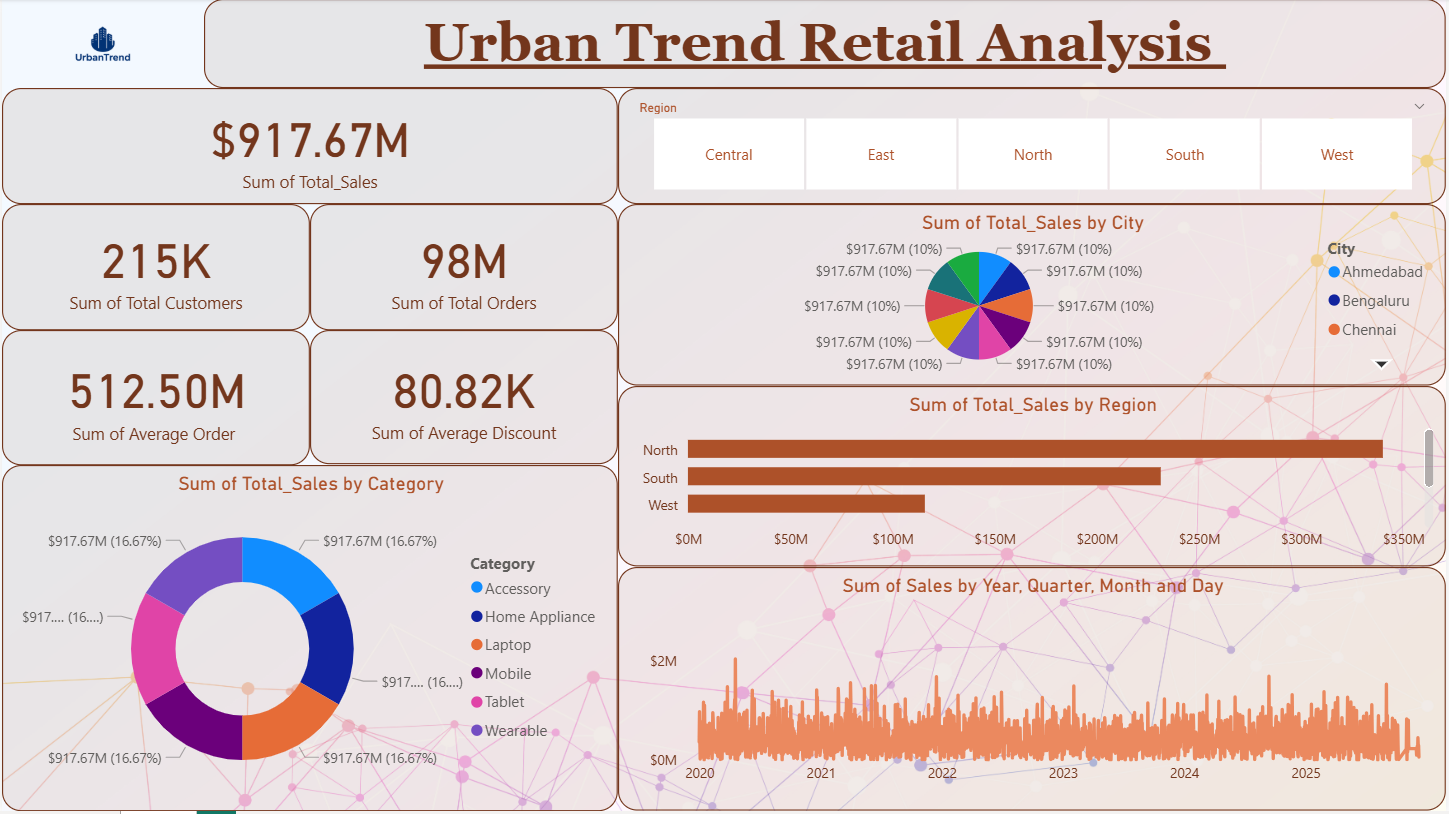

The page's visual inventory and layout, read from the dashboard file:
{"tool":"powerbi","page":{"name":"Page 1","canvas":[1280,720],"ordinal":0},"visuals":[{"type":"textbox","box":[179.1,0,1101.3,78.9],"z":0},{"type":"image","box":[0,0,179.1,78.9],"z":1000},{"type":"lineChart","title":"Sum of Sales by Year, Quarter, Month and Day","fields":{"Y":["Sum(Sales.Total_Sales)"],"Category":["Sales.Order_Date.Variation.Date Hierarchy.Year","Sales.Order_Date.Variation.Date Hierarchy.Quarter","Sales.Order_Date.Variation.Date Hierarchy.Month","Sales.Order_Date.Variation.Date Hierarchy.Day"]},"box":[546.2,503.6,734.2,216.4],"z":2000},{"type":"clusteredBarChart","fields":{"Y":["Sum(Sales.Total_Sales)"],"Category":["Sales.Region"]},"box":[546.2,343.2,734.2,160.5],"z":3000},{"type":"card","fields":{"Values":["Sum(Sales.Total_Sales)"]},"box":[0,78.9,546.2,102.9],"z":4000},{"type":"card","fields":{"Values":["Sum(Sales.Average Order Value)"]},"box":[0,293.5,273.1,119.7],"z":5000},{"type":"card","fields":{"Values":["Sum(Sales.Total Orders)"]},"box":[273.1,181.8,273.1,111.7],"z":6000},{"type":"card","fields":{"Values":["Sum(Customers.Total Customers)"]},"box":[0,181.8,273.1,111.7],"z":7000},{"type":"card","fields":{"Values":["Sum(Sales.Average Discount)"]},"box":[273.1,293.5,273.1,118.8],"z":8000},{"type":"slicer","fields":{"Values":["Sales.Region"]},"box":[546.2,78.9,734.2,102.9],"z":9000},{"type":"donutChart","fields":{"Y":["Sum(Sales.Total_Sales)"],"Category":["Products.Category"]},"box":[0,413.2,546.2,306.8],"z":10000},{"type":"pieChart","fields":{"Category":["Customers.City"],"Y":["Sum(Sales.Total_Sales)"]},"box":[546.2,181.8,734.2,161.4],"z":11000}]}

Visuals, with their boxes in screenshot pixels (x1, y1, x2, y2), scaled from the page's 1280x720 canvas onto the 1449x814 screenshot:
textbox: l=203, t=0, r=1448, b=89
image: l=0, t=0, r=203, b=89
"Sum of Sales by Year, Quarter, Month and Day" lineChart: l=618, t=569, r=1448, b=813
clusteredBarChart - Sum(Sales.Total_Sales) x Sales.Region: l=618, t=388, r=1448, b=569
card - Sum(Sales.Total_Sales): l=0, t=89, r=618, b=206
card - Sum(Sales.Average Order Value): l=0, t=332, r=309, b=467
card - Sum(Sales.Total Orders): l=309, t=206, r=618, b=332
card - Sum(Customers.Total Customers): l=0, t=206, r=309, b=332
card - Sum(Sales.Average Discount): l=309, t=332, r=618, b=466
slicer - Sales.Region: l=618, t=89, r=1448, b=206
donutChart - Sum(Sales.Total_Sales) x Products.Category: l=0, t=467, r=618, b=813
pieChart - Customers.City x Sum(Sales.Total_Sales): l=618, t=206, r=1448, b=388
